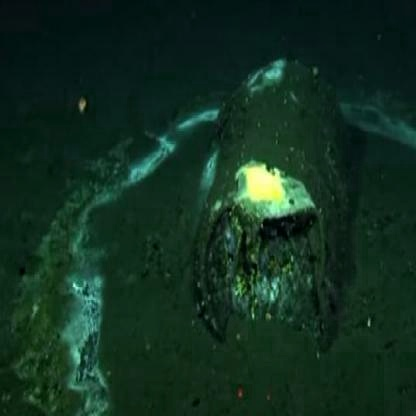misc: (198, 65, 366, 354)
